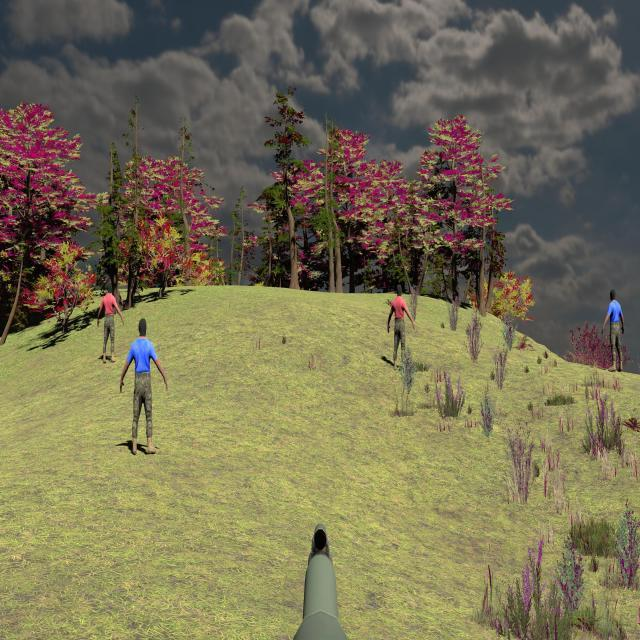Human: (120, 317, 168, 456), (387, 283, 415, 370), (98, 280, 124, 363), (603, 288, 625, 371)
